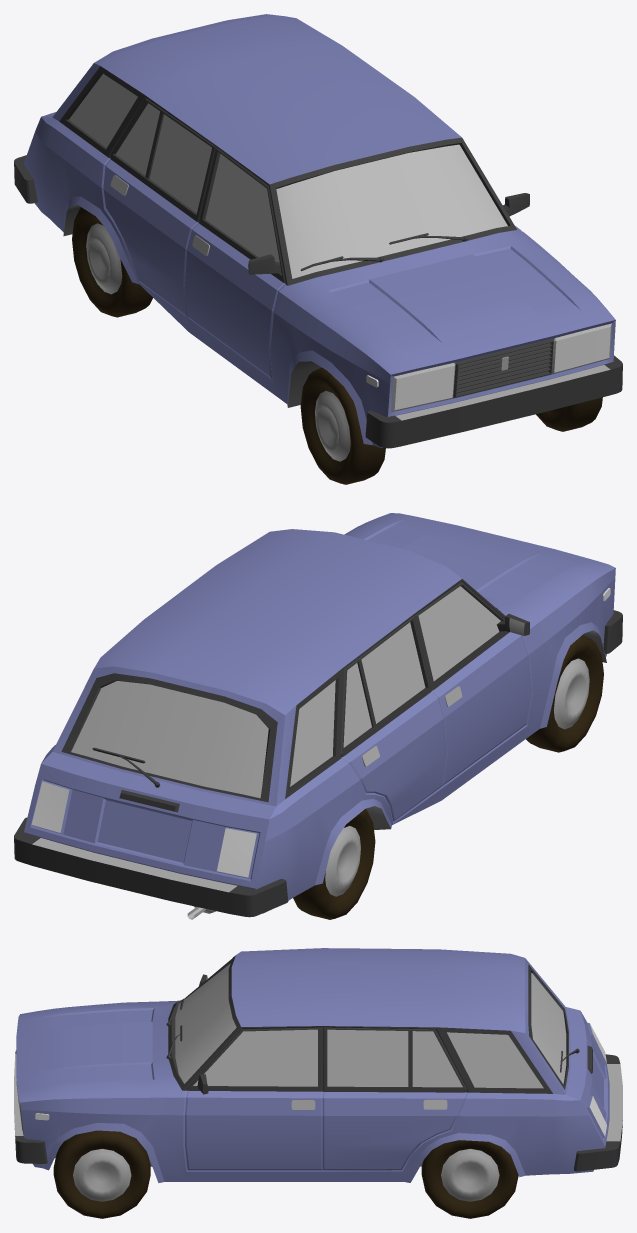
File: Zhiguli.fbx
3 views of the same model, one above another, from view 1: azimuth 30°, elevation 25°; view 2: azimuth 150°, elevation 25°; view 3: azimuth 270°, elevation 25° (orthographic). The views are drawn at different scales.
Parts seen in each view (by area): view 1: Body, Wheel_FR, Wheel_RR, Wheel_FL; view 2: Body, Wheel_FR, Wheel_RR; view 3: Body, Wheel_FL, Wheel_RL.
Boxes of the visible parts, box(x1,y1,x2,y2) form: Body: box(14, 14, 622, 448); Wheel_FR: box(300, 367, 385, 484); Wheel_RR: box(72, 207, 152, 317); Wheel_FL: box(536, 397, 602, 431); Body: box(14, 513, 622, 919); Wheel_FR: box(526, 635, 603, 752); Wheel_RR: box(293, 809, 375, 919); Body: box(14, 948, 622, 1183); Wheel_FL: box(53, 1130, 150, 1218); Wheel_RL: box(421, 1140, 518, 1218).
Size of the model in its own units: 172 by 141 by 401.
